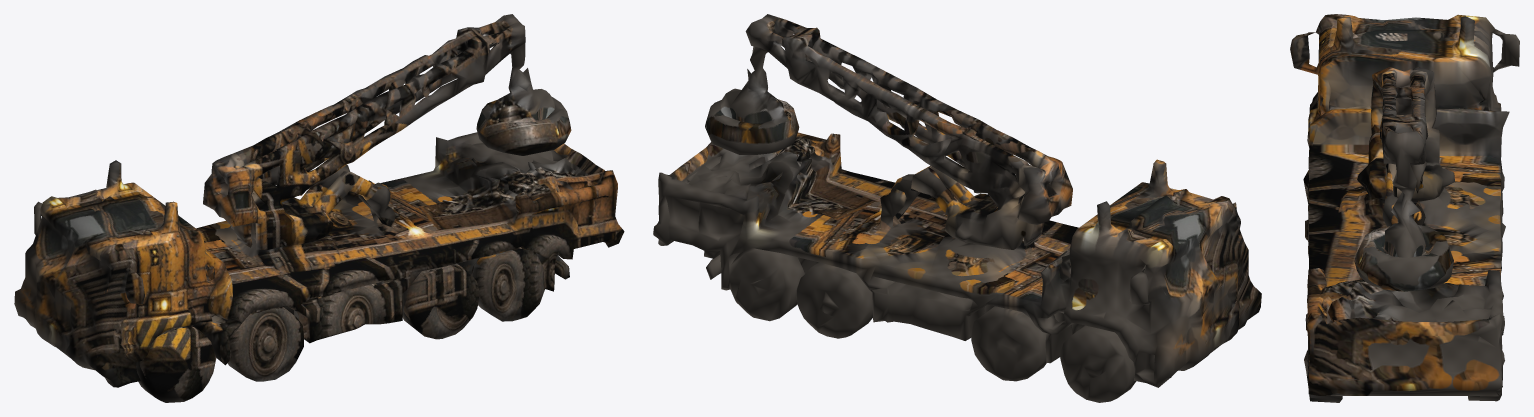
Rendered from haulrig_lod1.glb.
The picture shows the model from 3 angles, left to right: view 1: azimuth 30°, elevation 25°; view 2: azimuth 150°, elevation 25°; view 3: azimuth 270°, elevation 25°; orthographic projection. The views are drawn at different scales.
Parts seen in each view (by area): view 1: geometry_0; view 2: geometry_0; view 3: geometry_0.
Part boxes in pixels (x1,y1,x2,y2): geometry_0: (14, 14, 624, 402); geometry_0: (653, 14, 1261, 402); geometry_0: (1290, 14, 1519, 402).
Size of the model in its own units: 2 by 0.9485 by 0.6899.
Materials: 1 (1 with a texture image).
